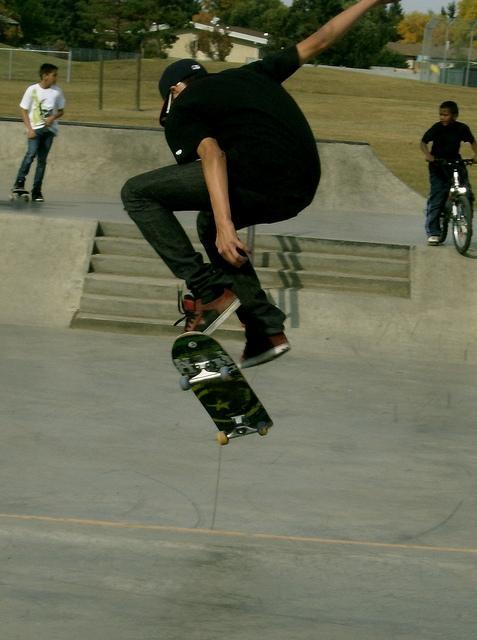bicycle: (445, 158, 477, 266)
